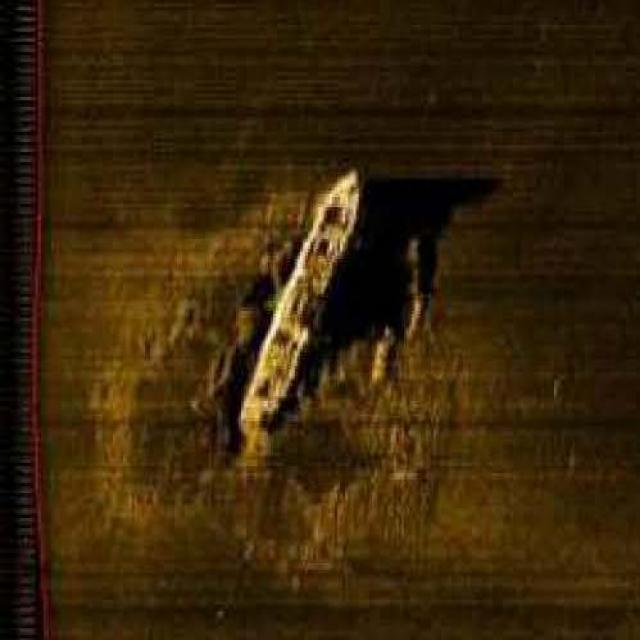shipwreck: (238, 167, 364, 443)
